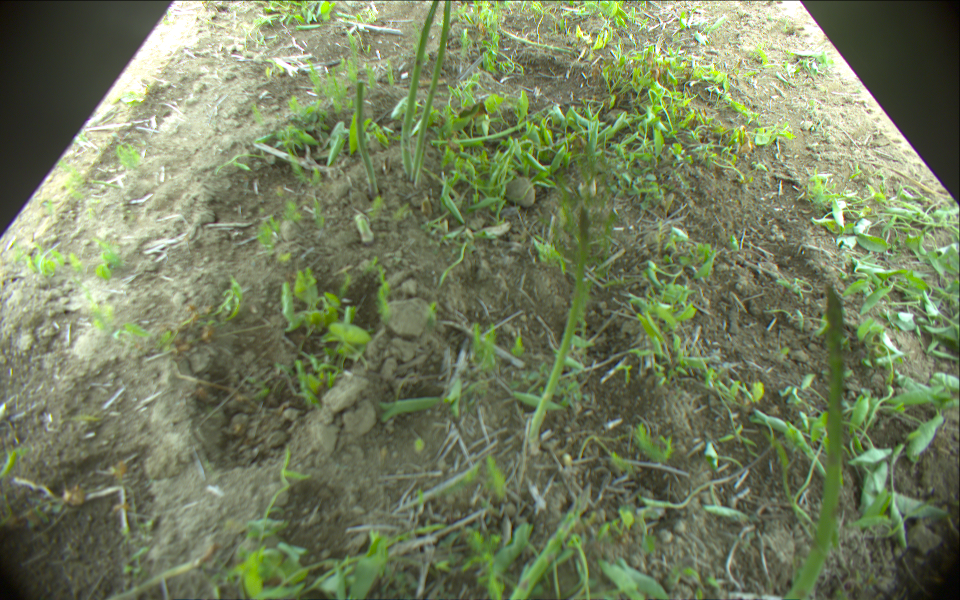aspa: (786, 284, 843, 600), (530, 205, 588, 443), (507, 486, 591, 600), (409, 1, 451, 184), (401, 1, 439, 179), (433, 112, 545, 145), (355, 79, 379, 198), (494, 29, 579, 56), (354, 213, 371, 245)
